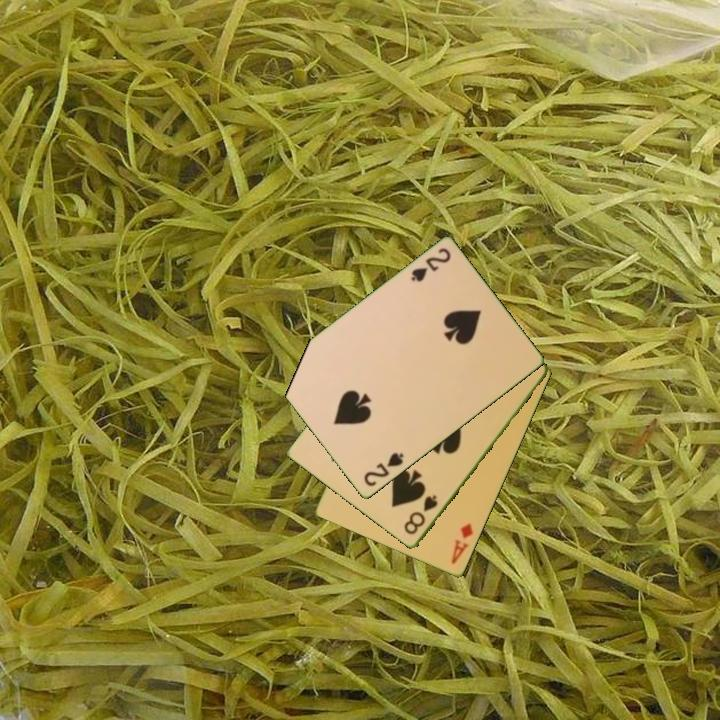2s: (360, 449, 407, 490), (407, 245, 454, 285)
8s: (400, 492, 441, 538)
Ad: (448, 520, 476, 568)
